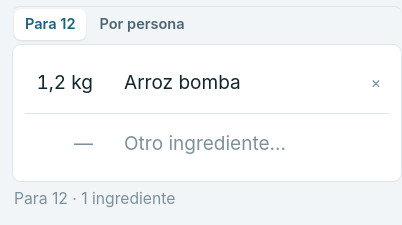
Test: el renglón del pie › al tocar una línea dice cuánto sale por ración, que es lo que deja juzgar la cifra
Click the field named "Cantidad de Arroz bomba".
click(64, 83)  # box [25,60,103,106]
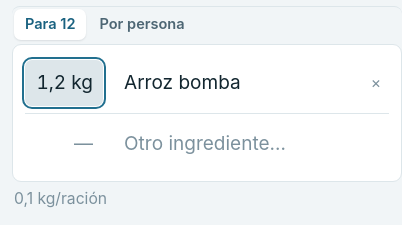
Result: the message reads "0,1 kg/ración" at [14,189,107,208]
